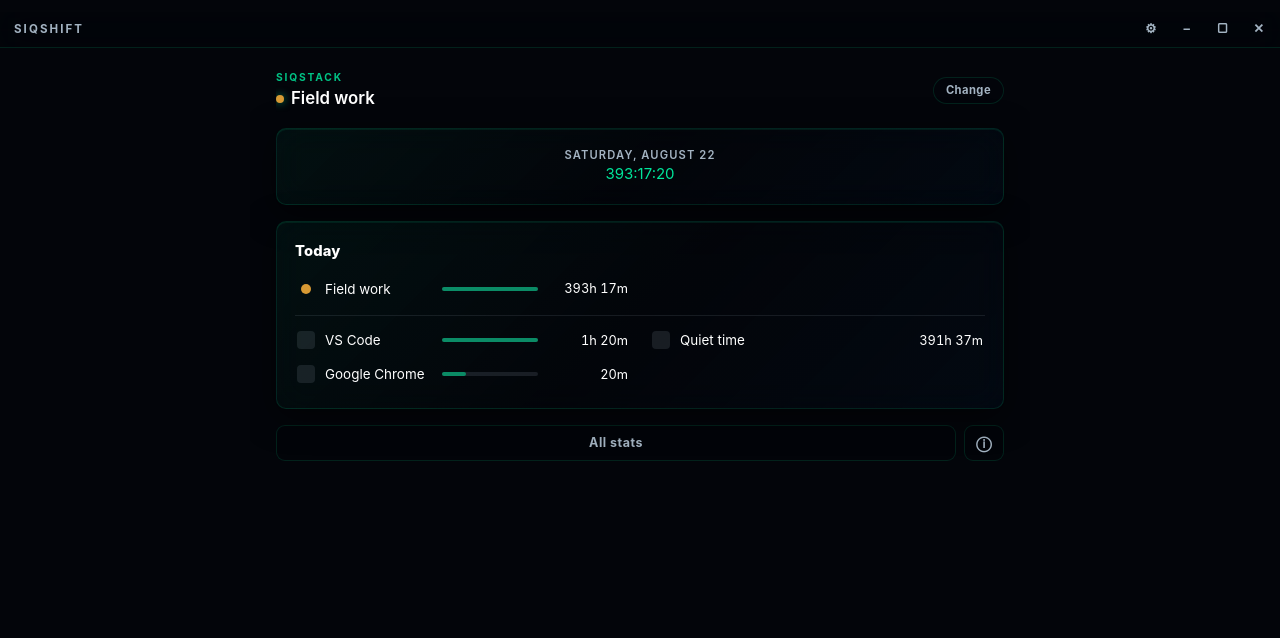
Test: recording › lists the account's projects with no team row - one login is one team
The image size is (1280, 638).
Click the button with test id "filing-change". click: click(968, 91)
box: [933, 77, 1004, 104]
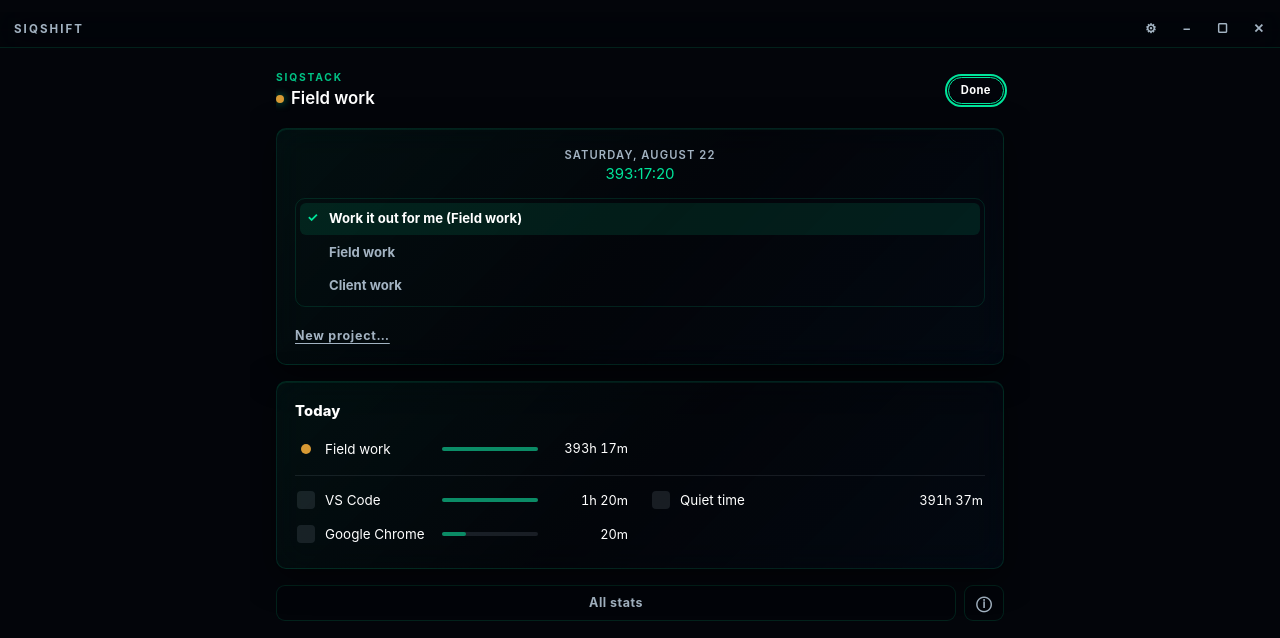
Result: the radio button labelled "Field work" is shown at [300, 236, 980, 268]
Result: the radio button labelled "Client work" is shown at [300, 270, 980, 302]
